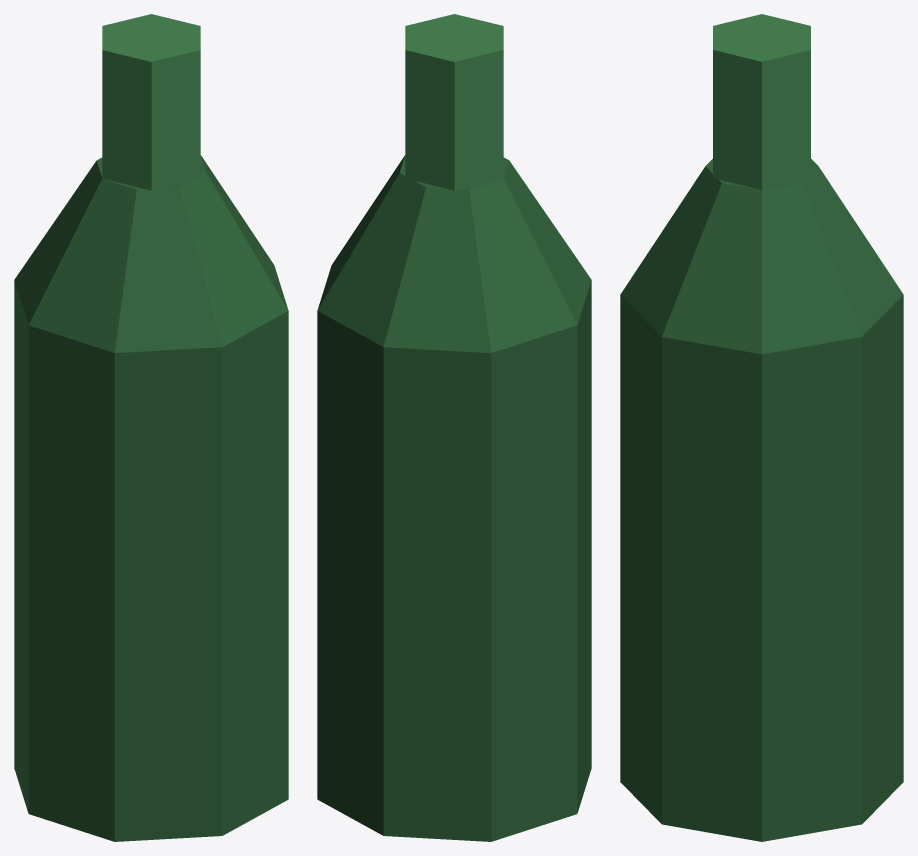
The model's file is SM_Prop_Bottle_01.glb.
The picture shows the model from 3 angles, left to right: view 1: azimuth 30°, elevation 25°; view 2: azimuth 150°, elevation 25°; view 3: azimuth 270°, elevation 25°; orthographic projection.
Parts seen in each view (by area): view 1: SM_Prop_Bottle_01; view 2: SM_Prop_Bottle_01; view 3: SM_Prop_Bottle_01.
Boxes of the visible parts, <box> form: SM_Prop_Bottle_01: <box>14,14,288,841</box>; SM_Prop_Bottle_01: <box>317,14,591,841</box>; SM_Prop_Bottle_01: <box>620,14,903,841</box>.
Bounding box in the file's own units: 0.1 × 0.29 × 0.1.
Materials: 1 (1 with a texture image).
